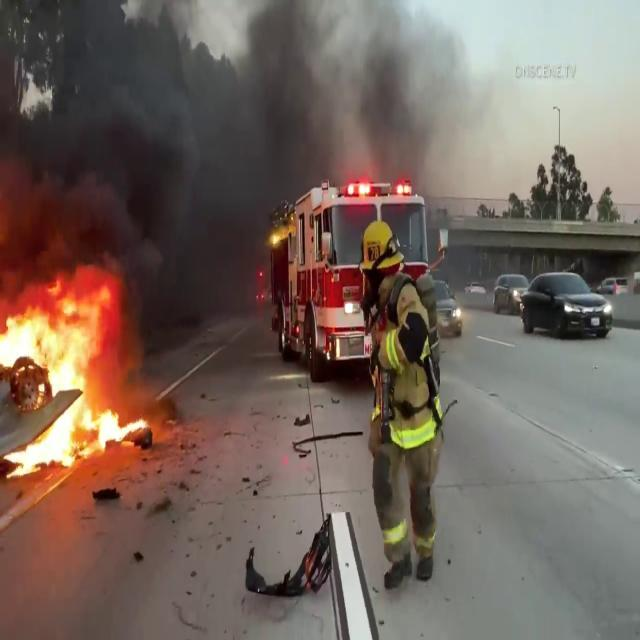Fire: (0, 274, 148, 470)
Smoke: (0, 0, 284, 318)
